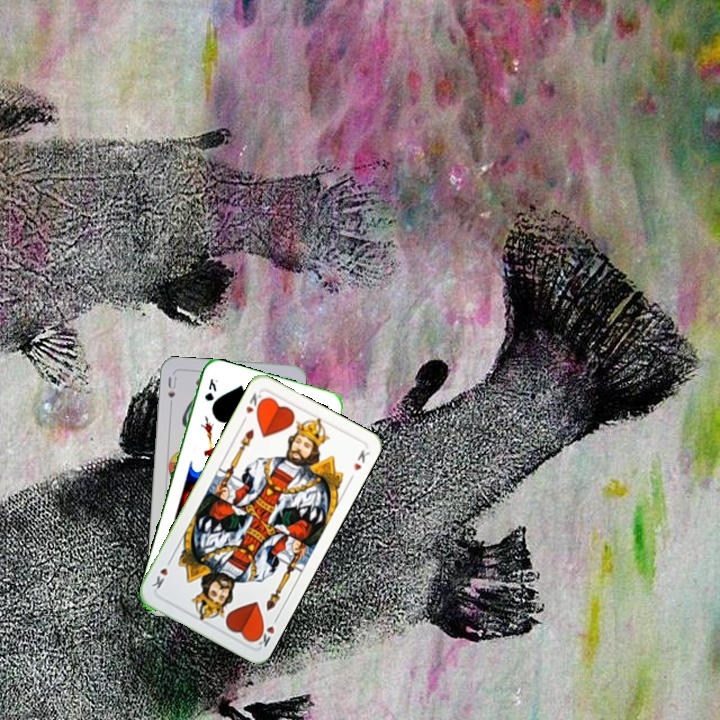GK: (201, 375, 221, 403)
HK: (250, 612, 281, 650), (238, 389, 267, 426)
SU: (164, 373, 179, 400)
